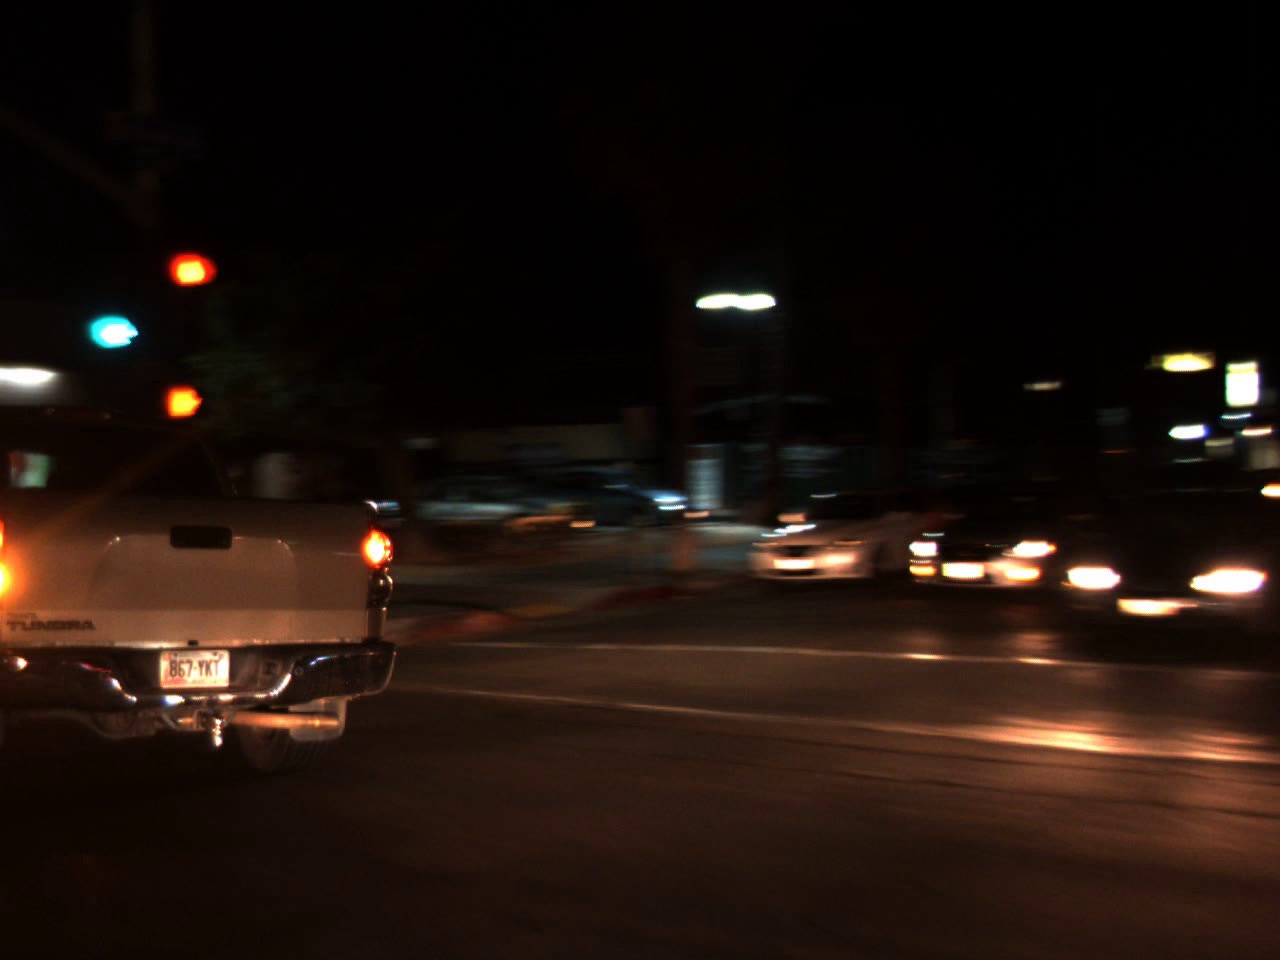go: (73, 265, 150, 364)
